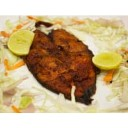seerfish: (27, 21, 97, 104)
